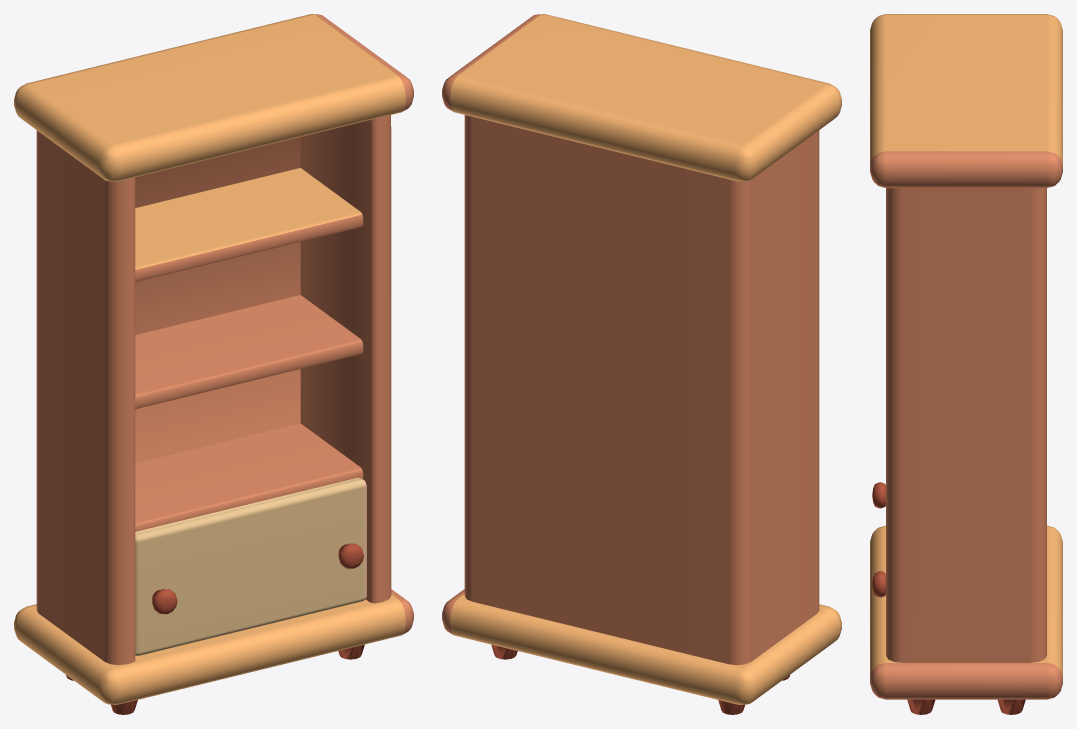
The model's file is estante_gaveta_pacote.glb.
3 views of the same model, side by side, from view 1: azimuth 30°, elevation 25°; view 2: azimuth 150°, elevation 25°; view 3: azimuth 270°, elevation 25° (orthographic). The views are drawn at different scales.
Parts seen in each view (by area): view 1: estante_gaveta_pacote, gaveta_1; view 2: estante_gaveta_pacote; view 3: estante_gaveta_pacote, gaveta_1.
Part boxes in pixels (x1,y1,x2,y2): estante_gaveta_pacote: (14, 14, 413, 714); gaveta_1: (135, 477, 366, 655); estante_gaveta_pacote: (442, 14, 841, 714); estante_gaveta_pacote: (870, 14, 1062, 714); gaveta_1: (872, 482, 885, 597).
Bounding box in the file's own units: 0.88 × 1.58 × 0.48.
Materials: 1 (1 with a texture image).
